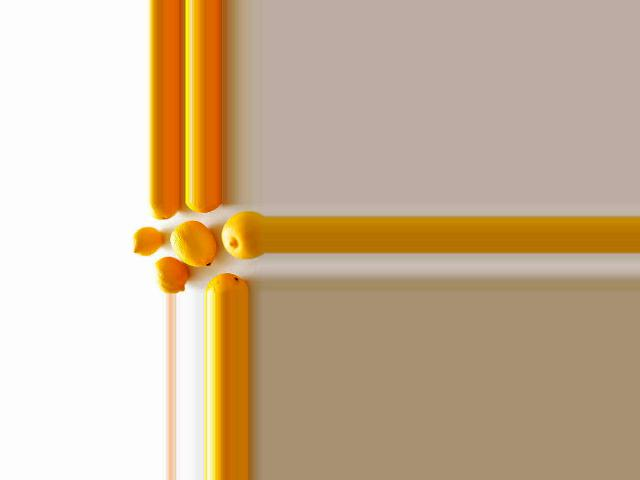lemon: (199, 269, 242, 294)
